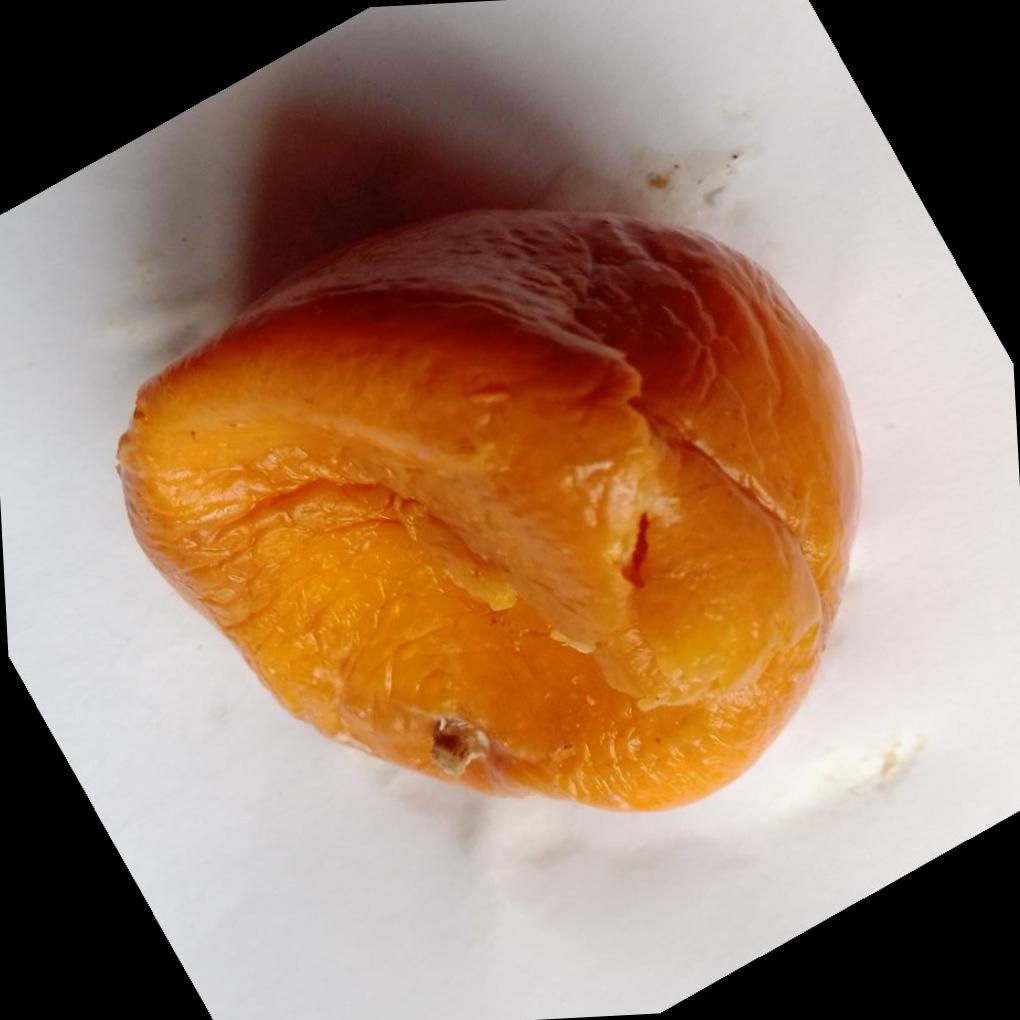FreshOrange: (110, 201, 860, 815)
